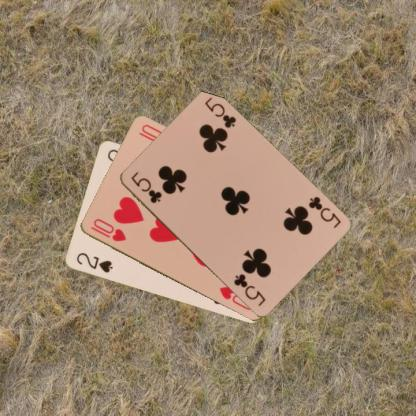10h: (87, 216, 127, 243)
2s: (73, 250, 114, 275)
5c: (306, 194, 342, 230), (128, 168, 163, 204)
